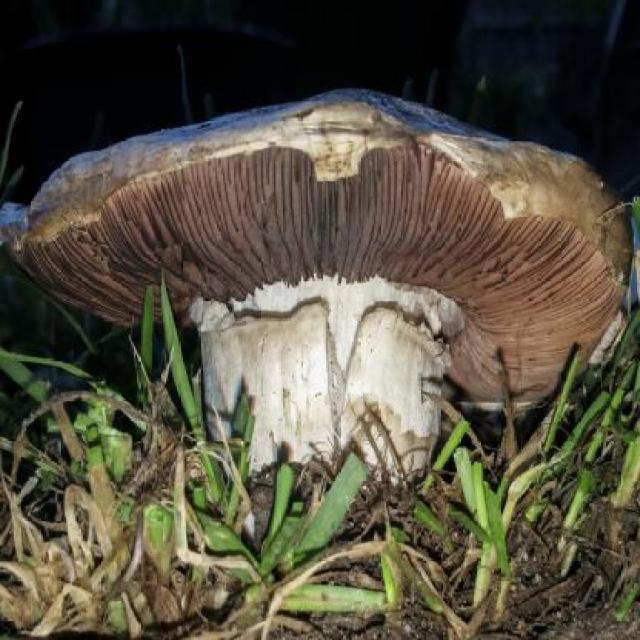Mushroom: (0, 87, 637, 484)
